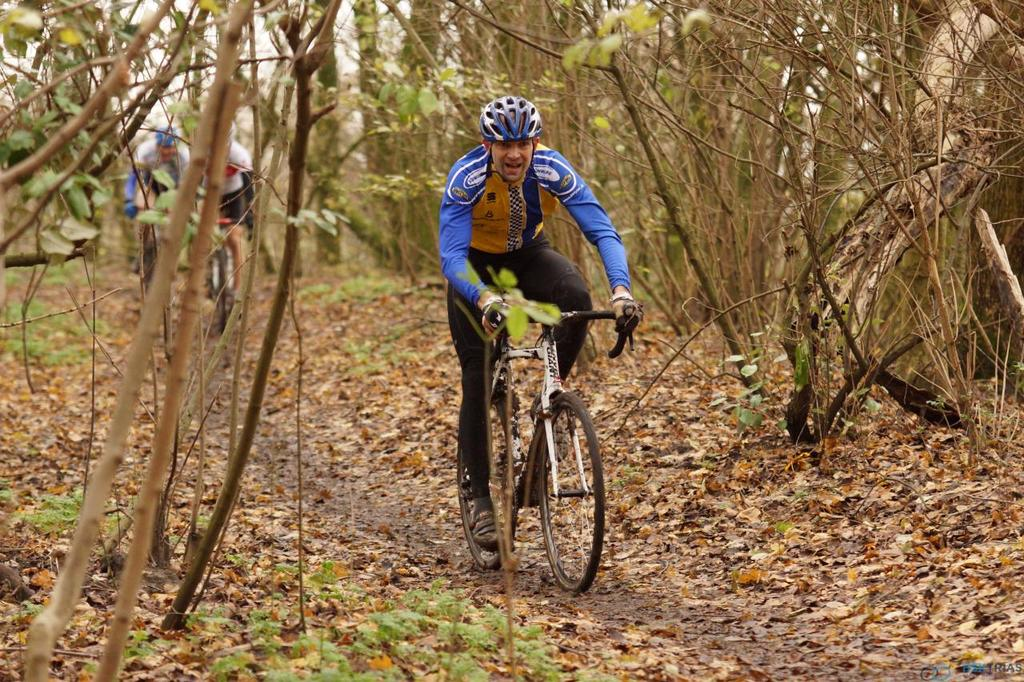Bike: (454, 301, 647, 597)
